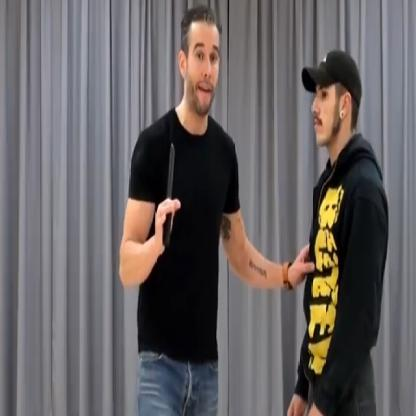knife: (155, 139, 181, 247)
